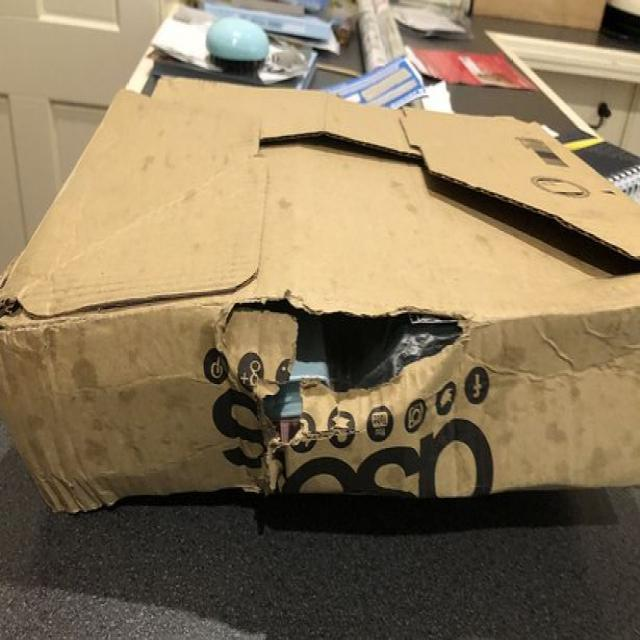hole: (204, 264, 478, 405)
